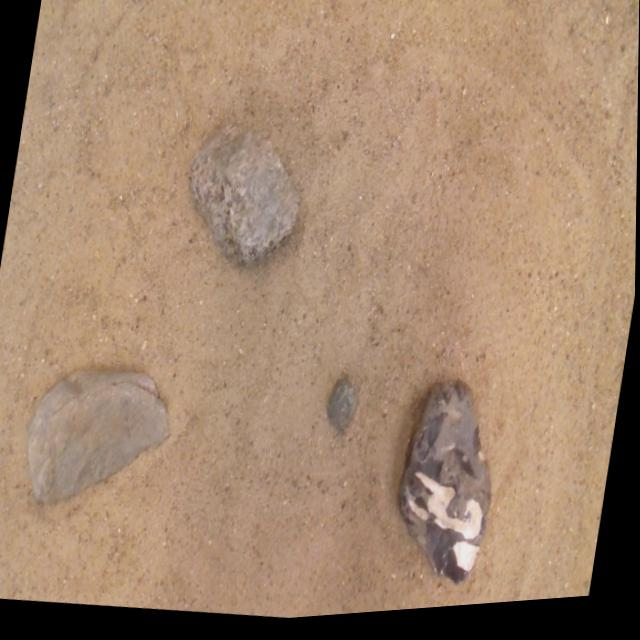rock: (30, 371, 170, 504), (401, 388, 493, 588), (191, 130, 300, 267), (329, 383, 360, 438)
